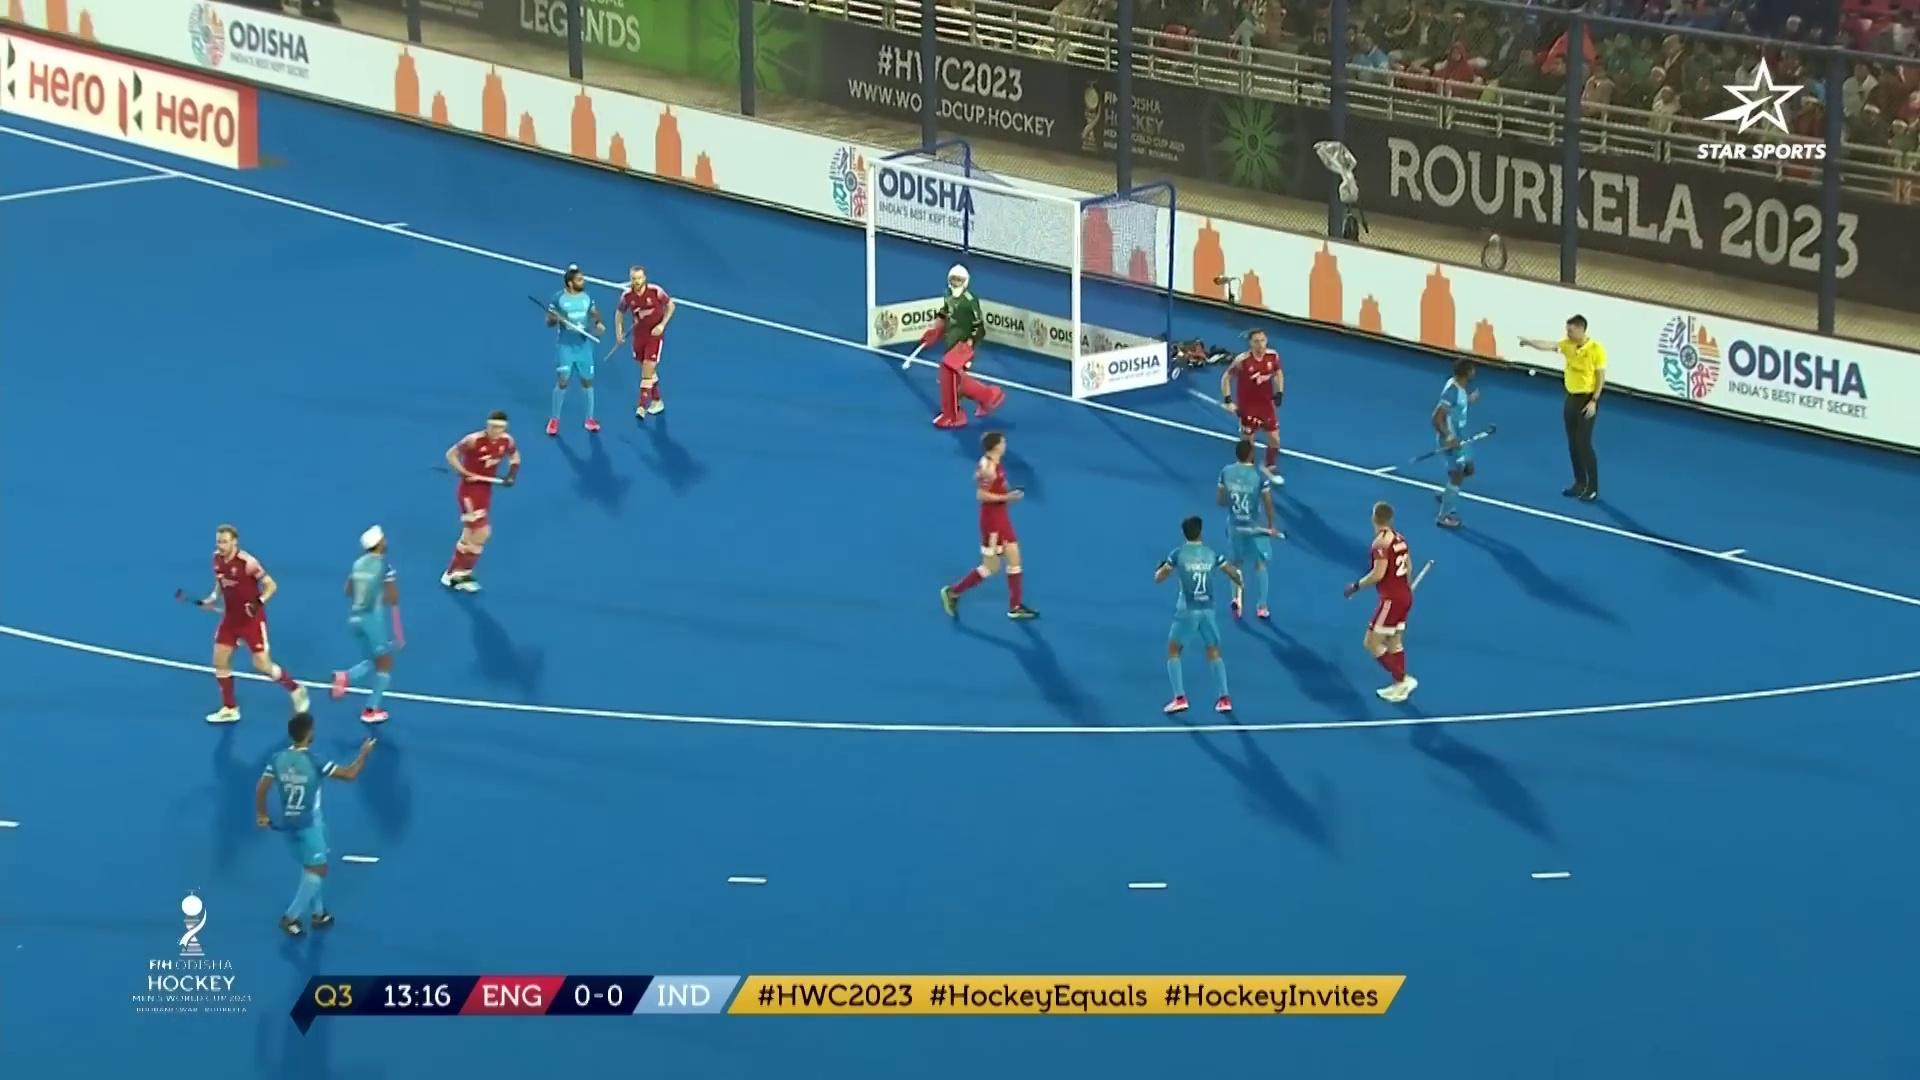ball: (1526, 368, 1537, 378)
